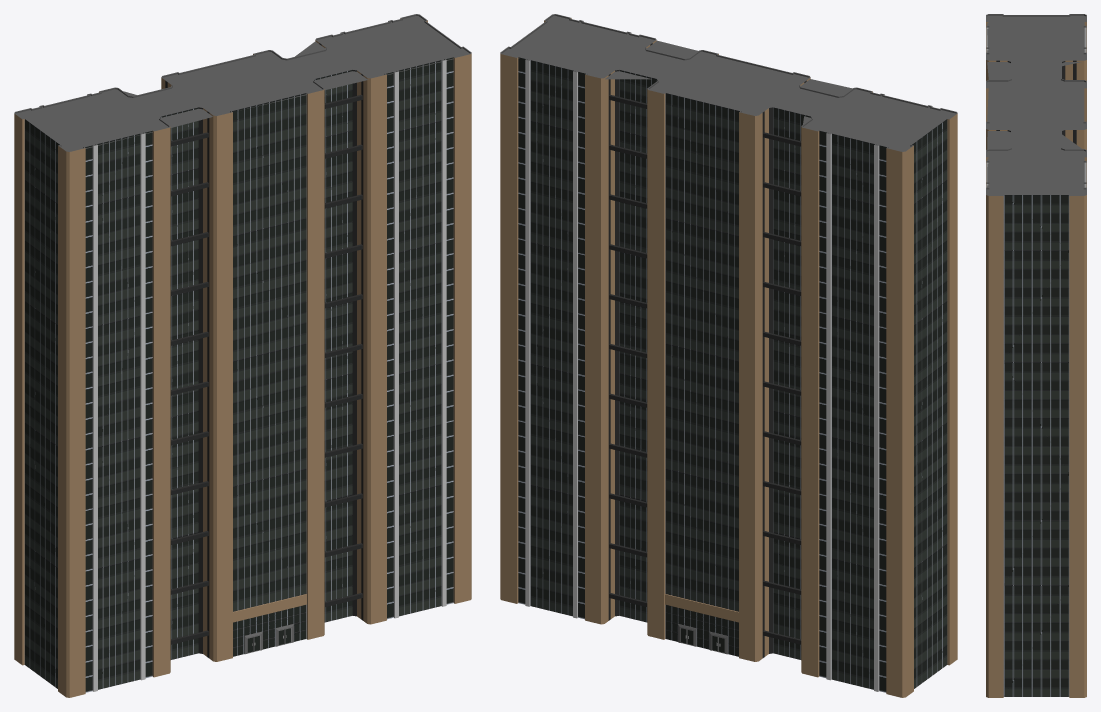
The picture shows the model from 3 angles, left to right: view 1: azimuth 30°, elevation 25°; view 2: azimuth 150°, elevation 25°; view 3: azimuth 270°, elevation 25°; orthographic projection. The views are drawn at different scales.
Visible parts, largest first — view 1: BC-09; view 2: BC-09; view 3: BC-09.
Part boxes in pixels (x1,y1,x2,y2): BC-09: (14, 14, 471, 697); BC-09: (500, 14, 957, 697); BC-09: (986, 14, 1086, 697).
Size of what is drawn, in the model's own units: 66.14 by 85.11 by 15.48.
